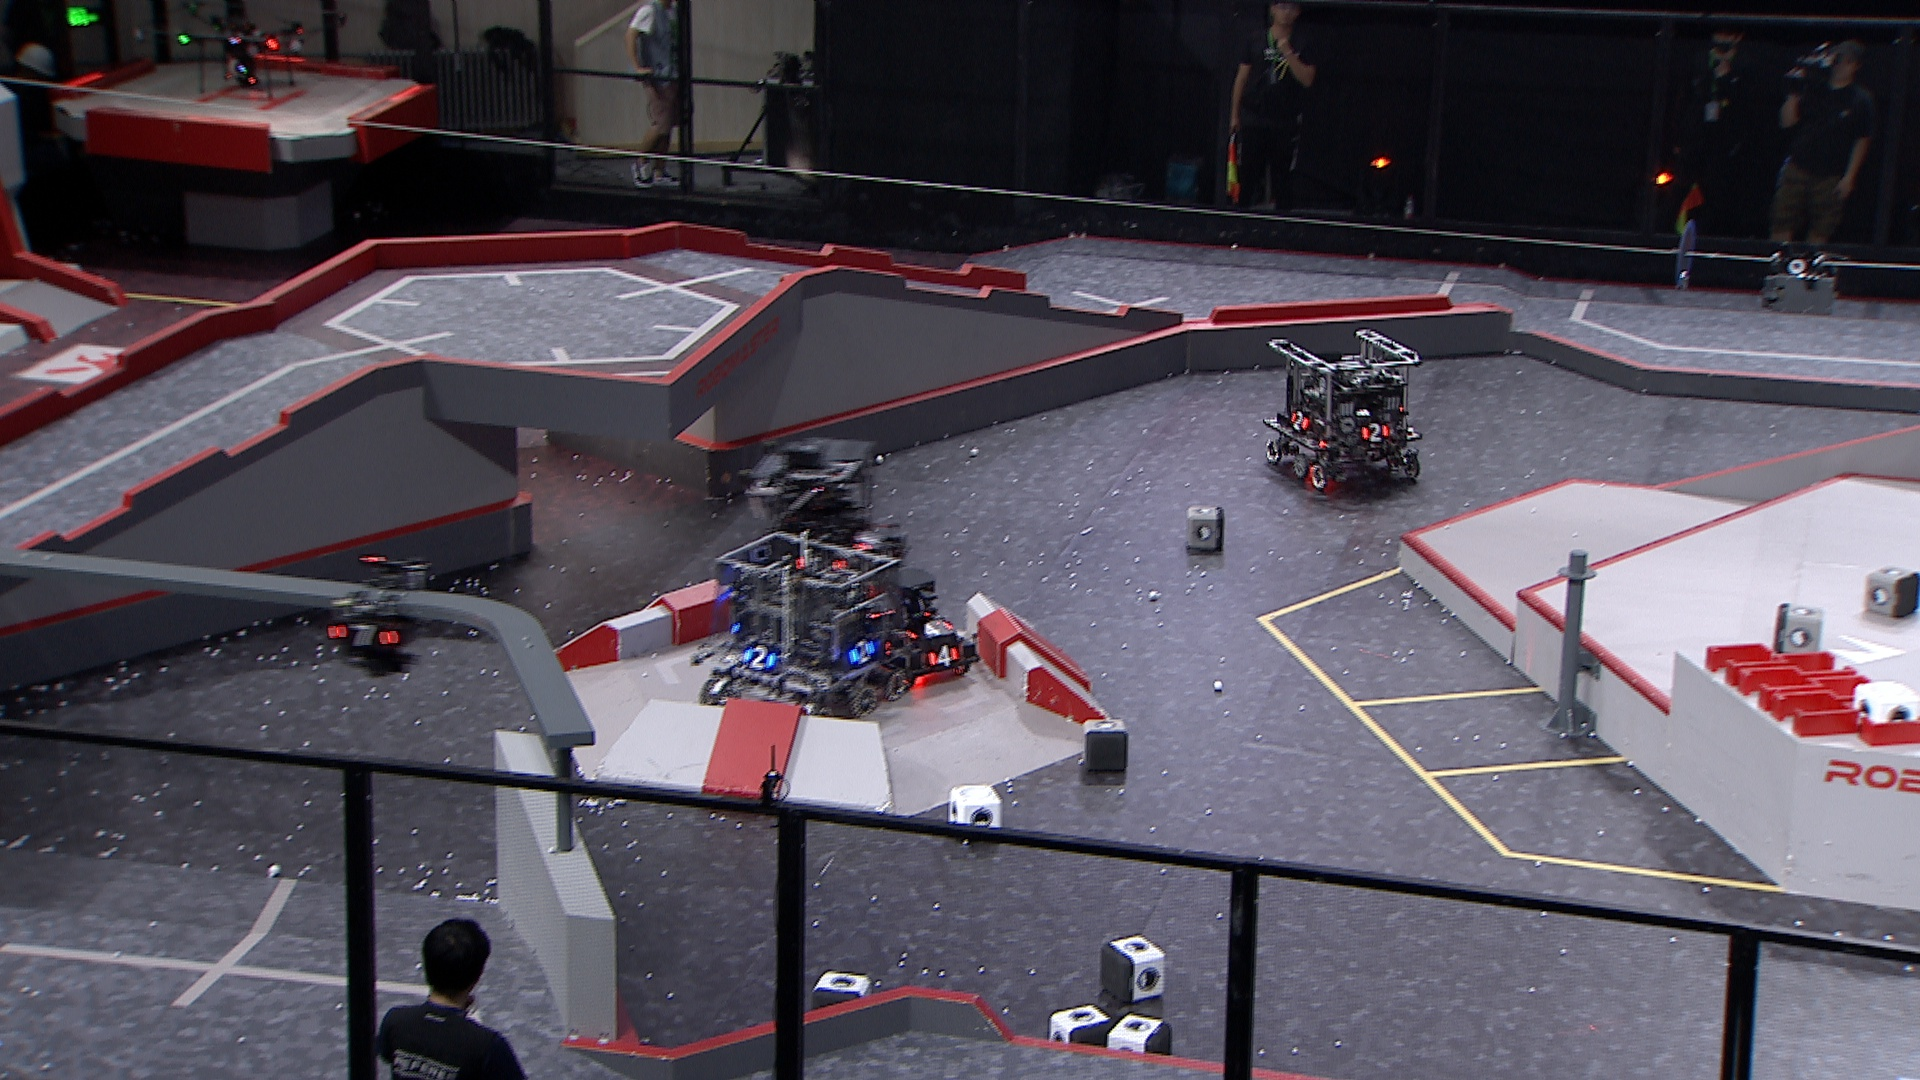armor: (324, 621, 400, 650), (907, 618, 953, 640), (744, 644, 775, 674), (847, 638, 877, 669), (924, 645, 960, 670), (1358, 422, 1393, 446), (852, 533, 882, 555), (1287, 409, 1309, 433)
car: (694, 531, 913, 725), (1262, 328, 1424, 495), (744, 436, 907, 593), (847, 566, 978, 700)
watcher: (320, 553, 429, 680)
